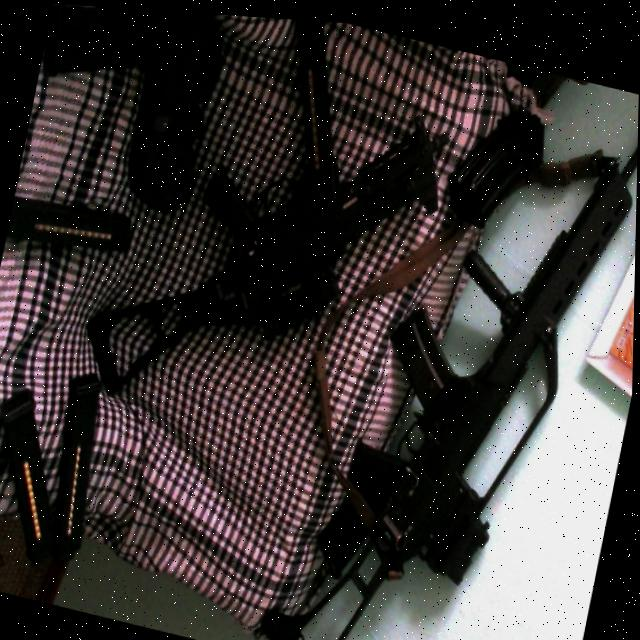firearm: (257, 19, 640, 640), (75, 4, 471, 458)
